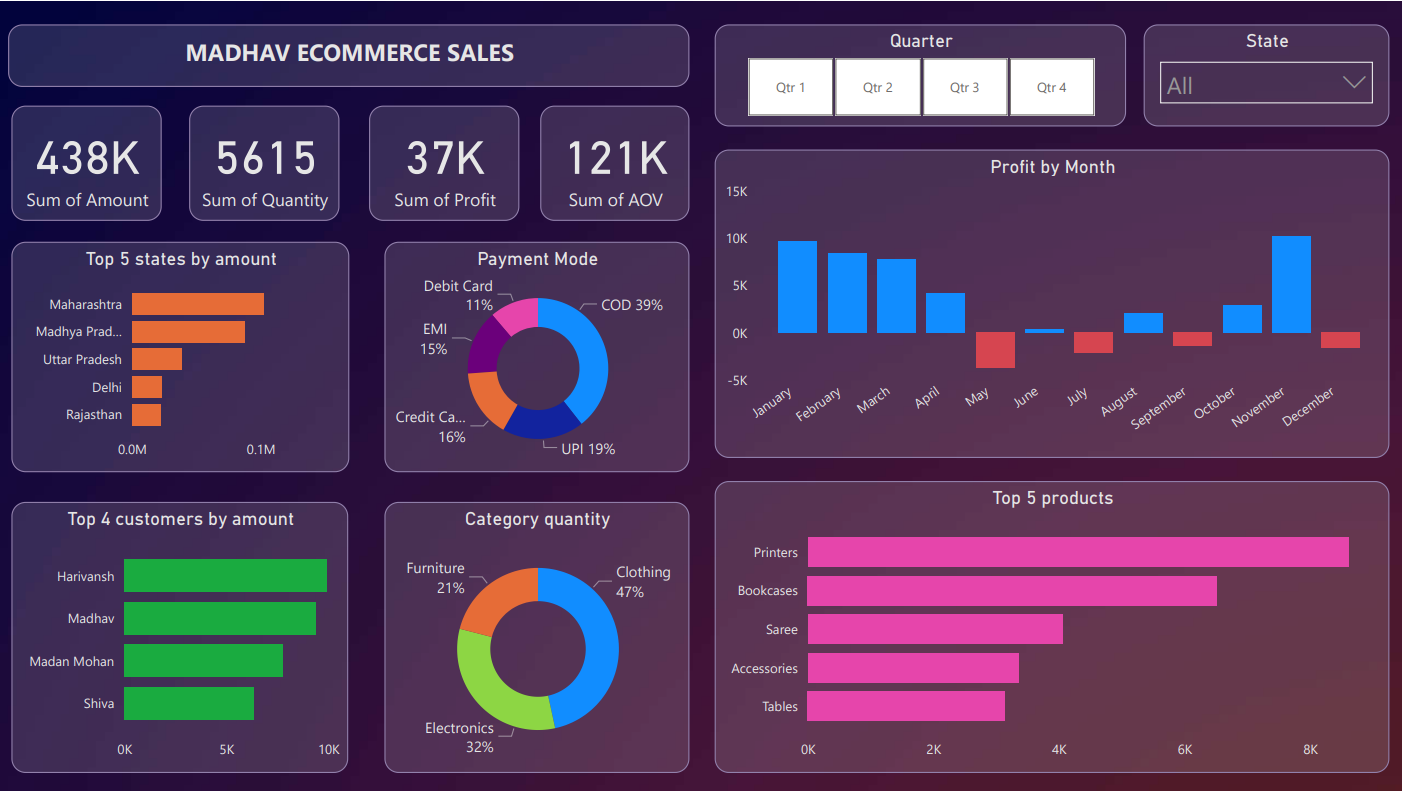

This screenshot's page, from the dashboard's own definition file:
{"tool":"powerbi","page":{"name":"Page 1","canvas":[1280,720],"ordinal":0},"visuals":[{"type":"textbox","box":[7.9,20.7,621.5,57.2],"z":0},{"type":"clusteredColumnChart","title":"Profit by Month","fields":{"Category":["Orders.Order Date.Variation.Date Hierarchy.Month"],"Y":["Details.Profit"]},"box":[651.7,135.1,615.1,281.3],"z":1},{"type":"clusteredBarChart","title":"Top 5 products","fields":{"Category":["Details.Sub-Category"],"Y":["Details.Profit"]},"box":[651.7,437.1,615.1,265.4],"z":2},{"type":"donutChart","title":"Category quantity","fields":{"Category":["Details.Category"],"Y":["Details.Quantity"]},"box":[351.3,456.2,278.1,246.4],"z":3},{"type":"donutChart","title":"Payment Mode","fields":{"Category":["Details.PaymentMode"],"Y":["Details.Quantity"]},"box":[351.3,219.3,278.1,209.8],"z":4},{"type":"card","fields":{"Values":["Details.Amount"]},"box":[11.1,95.4,136.7,104.9],"z":5},{"type":"card","fields":{"Values":["Details.Quantity"]},"box":[173.2,95.4,136.7,104.9],"z":6},{"type":"card","fields":{"Values":["Details.Profit"]},"box":[337,95.4,136.7,104.9],"z":7},{"type":"card","fields":{"Values":["Details.AOV"]},"box":[492.7,95.4,136.7,104.9],"z":8},{"type":"clusteredBarChart","title":"Top 5 states by amount","fields":{"Category":["Orders.State"],"Y":["Details.Amount"]},"box":[11.1,219.3,308.3,209.8],"z":9},{"type":"clusteredBarChart","title":"Top 4 customers by amount","fields":{"Category":["Orders.CustomerName"],"Y":["Details.Amount"]},"box":[11.1,456.2,306.8,246.4],"z":10},{"type":"slicer","title":"Quarter","fields":{"Values":["Orders.Order Date.Variation.Date Hierarchy.Quarter"]},"box":[651.7,20.7,375.1,93.8],"z":11},{"type":"slicer","title":"State","fields":{"Values":["Orders.State"]},"box":[1042.6,20.7,224.1,93.8],"z":12}]}

Visuals, with their boxes in screenshot pixels (x1, y1, x2, y2), scaled from the page's 1280x720 canvas onto the 1402x793 screenshot:
textbox: (x1=9, y1=23, x2=689, y2=86)
"Profit by Month" clusteredColumnChart: (x1=714, y1=149, x2=1388, y2=459)
"Top 5 products" clusteredBarChart: (x1=714, y1=481, x2=1388, y2=774)
"Category quantity" donutChart: (x1=385, y1=502, x2=689, y2=774)
"Payment Mode" donutChart: (x1=385, y1=242, x2=689, y2=473)
card - Details.Amount: (x1=12, y1=105, x2=162, y2=221)
card - Details.Quantity: (x1=190, y1=105, x2=339, y2=221)
card - Details.Profit: (x1=369, y1=105, x2=519, y2=221)
card - Details.AOV: (x1=540, y1=105, x2=689, y2=221)
"Top 5 states by amount" clusteredBarChart: (x1=12, y1=242, x2=350, y2=473)
"Top 4 customers by amount" clusteredBarChart: (x1=12, y1=502, x2=348, y2=774)
"Quarter" slicer: (x1=714, y1=23, x2=1125, y2=126)
"State" slicer: (x1=1142, y1=23, x2=1387, y2=126)
